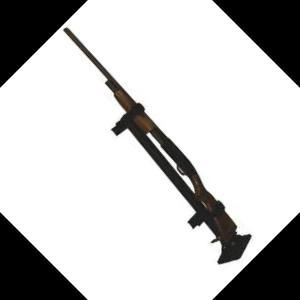larga: (63, 27, 238, 244)
